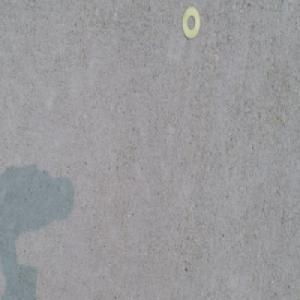Washer: (181, 8, 200, 39)
